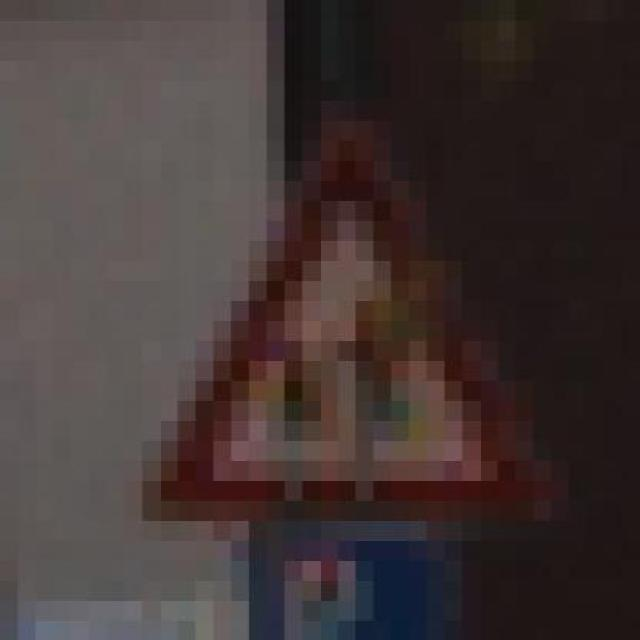Beware of children: (124, 80, 551, 540)
